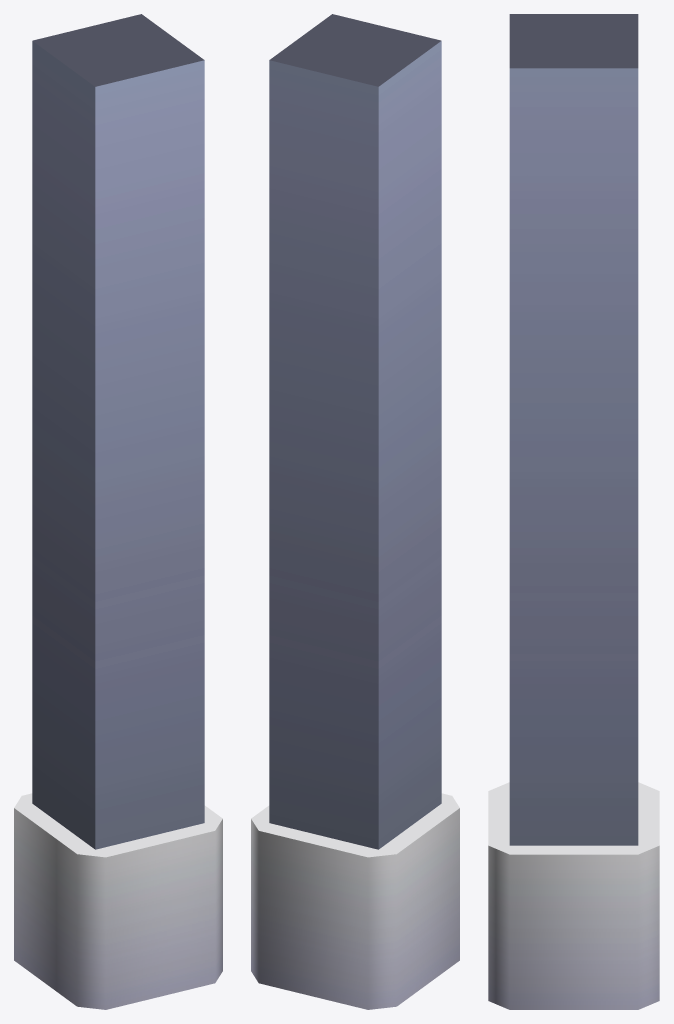
Rendered from column-thin.optimized.glb.
3 renders of one model, left to right at view 1: azimuth 30°, elevation 25°; view 2: azimuth 150°, elevation 25°; view 3: azimuth 270°, elevation 25°, orthographic.
Visible parts, largest first — view 1: column-thin; view 2: column-thin; view 3: column-thin.
Boxes of the visible parts, x1,y1,x2,y2 form: column-thin: (14,14,222,1009); column-thin: (251,14,459,1009); column-thin: (488,14,659,1009).
Size of the model in its own units: 0.3999 by 2.4 by 0.3999.
Materials: 1 (1 with a texture image).
